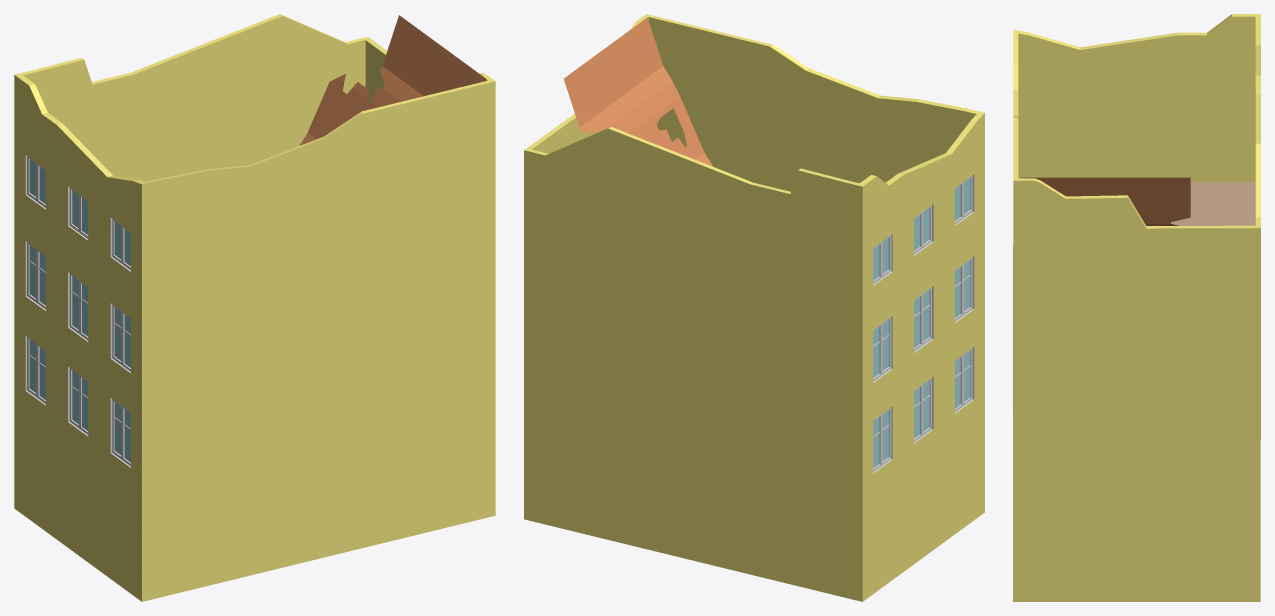
File: Building_11.fbx
3 views of the same model, side by side, from view 1: azimuth 30°, elevation 25°; view 2: azimuth 150°, elevation 25°; view 3: azimuth 270°, elevation 25° (orthographic). The views are drawn at different scales.
Parts seen in each view (by area): view 1: Building_11; view 2: Building_11; view 3: Building_11.
Part boxes in pixels (left/top/right/bottom): Building_11: left=14, top=14, right=495, bottom=601; Building_11: left=524, top=14, right=984, bottom=601; Building_11: left=1013, top=14, right=1260, bottom=601.
Size of the model in its own units: 1322 by 1554 by 827.
